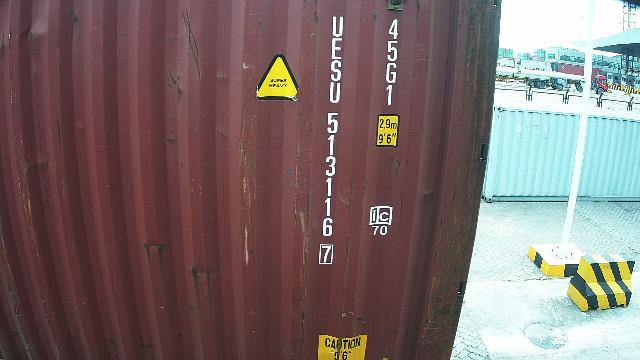1: (324, 197, 332, 216), (328, 134, 334, 156), (326, 177, 332, 197)
3: (326, 156, 336, 176)
5: (327, 112, 339, 134)
6: (322, 217, 333, 237)
7: (320, 244, 332, 264)
E: (331, 38, 343, 60)
S: (330, 60, 342, 82)
U: (329, 82, 341, 104), (332, 15, 344, 37)
